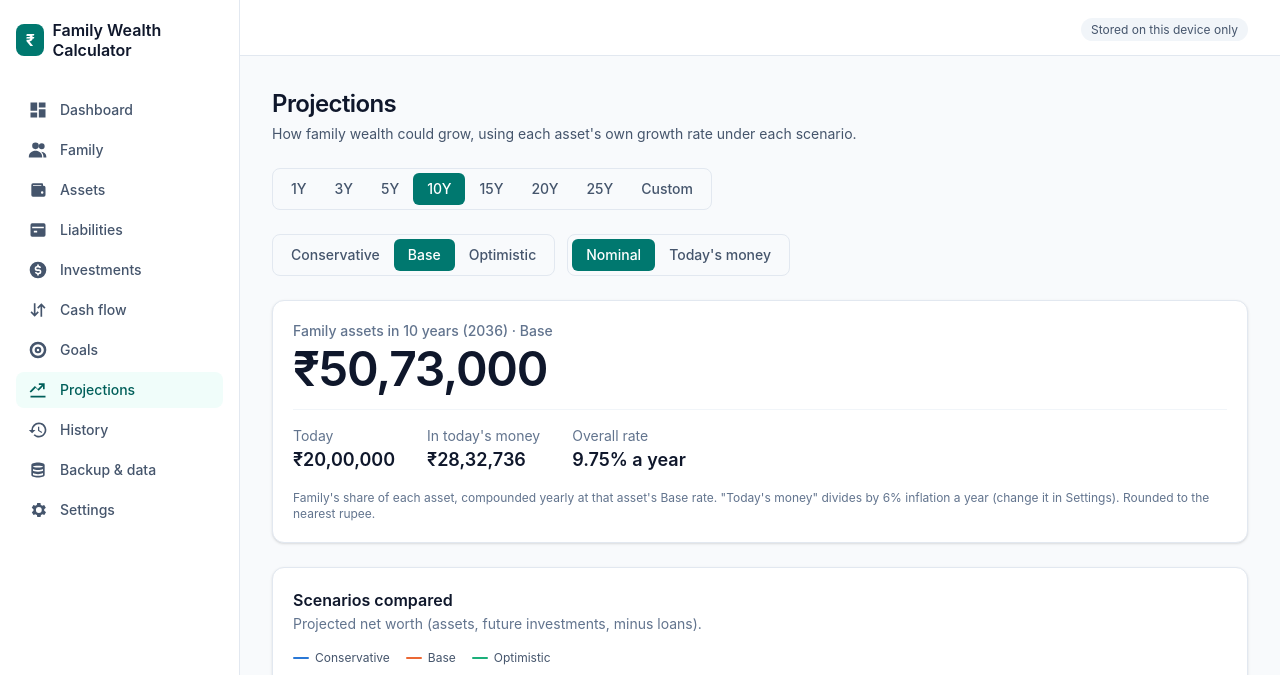
Projections page › uses each asset’s own rate and the family share; switches periods
Click the radio button labelled "1Y": {"x": 299, "y": 188} [291,180,307,197]
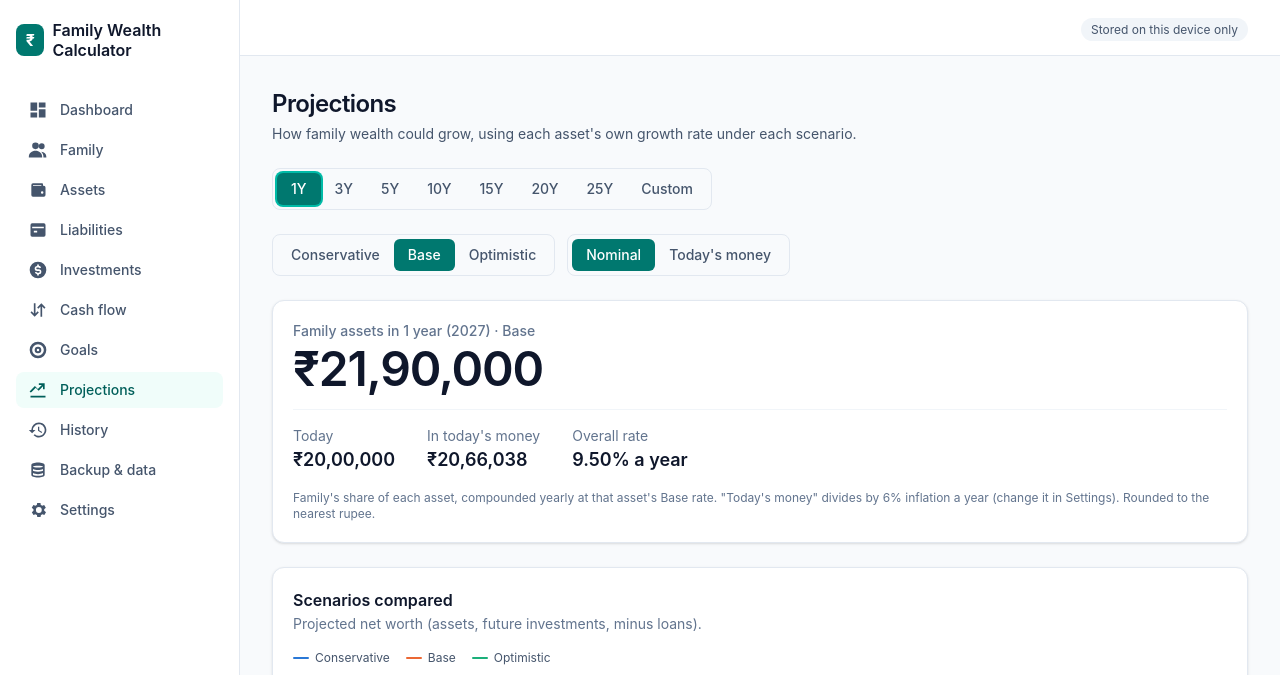
Now the text with test id "projected-total" reads "₹21,90,000", box [293,339,543,398]
Click the radio button labelled "25Y": {"x": 600, "y": 188} [586,180,613,197]
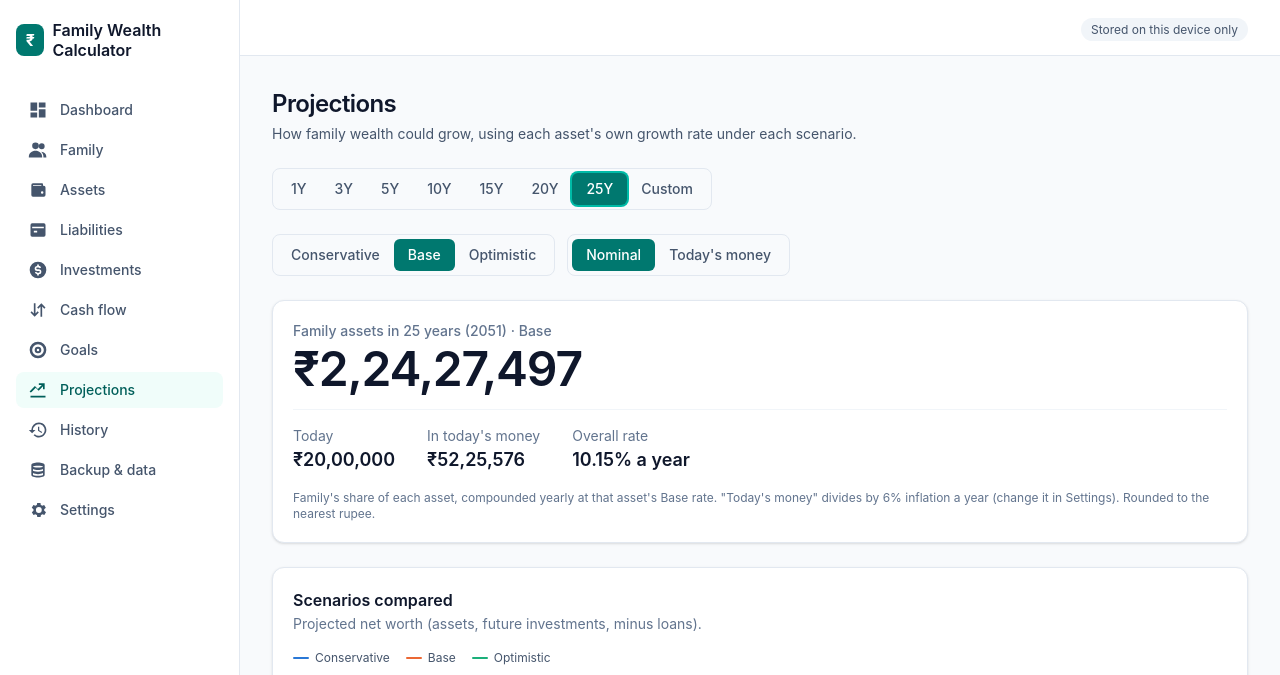
// Custom period with validation
Click the radio button labelled "Custom": {"x": 667, "y": 188} [641,180,693,197]
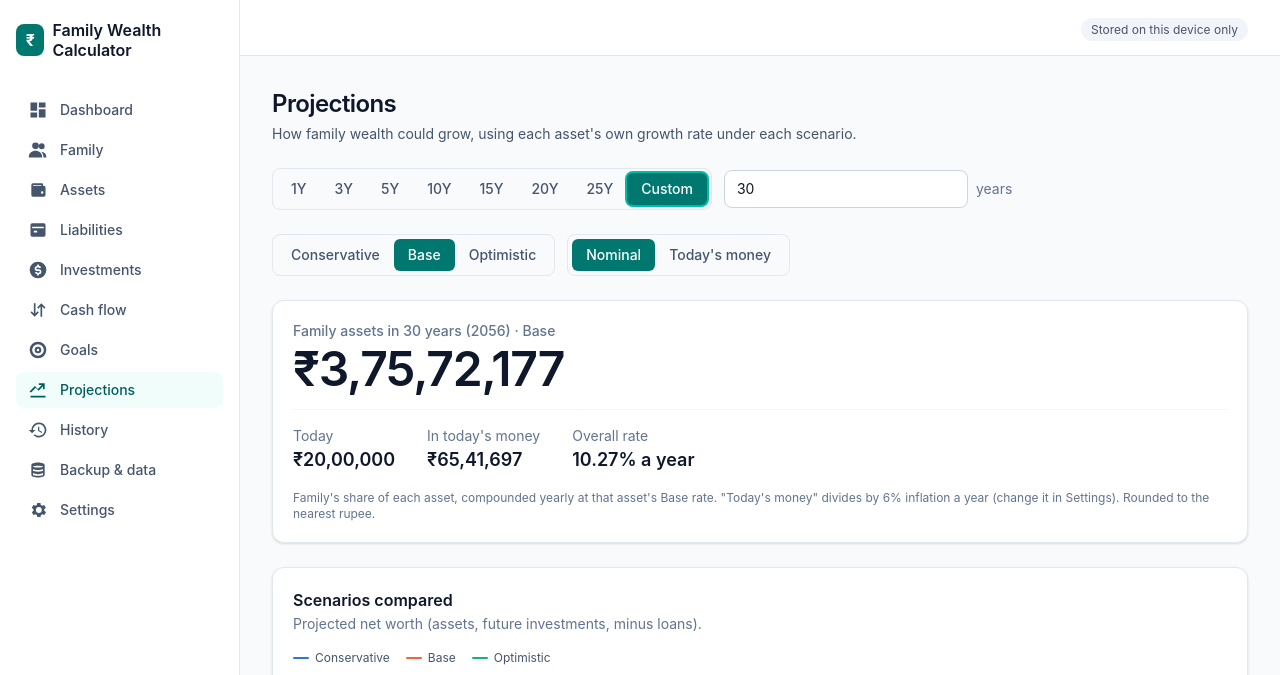
Clear the field named "Custom number of years": {"x": 846, "y": 189} [724,170,968,208]
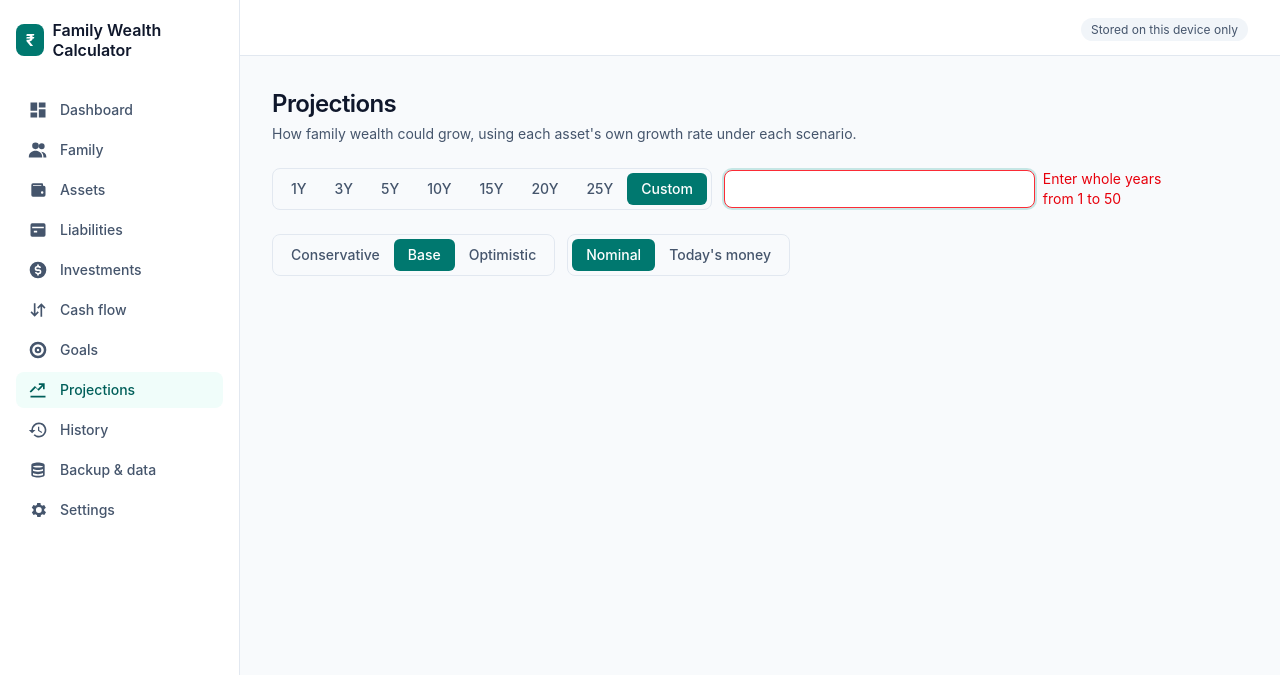
In the field named "Custom number of years": {"x": 879, "y": 189} [724,170,1035,208], type "0"
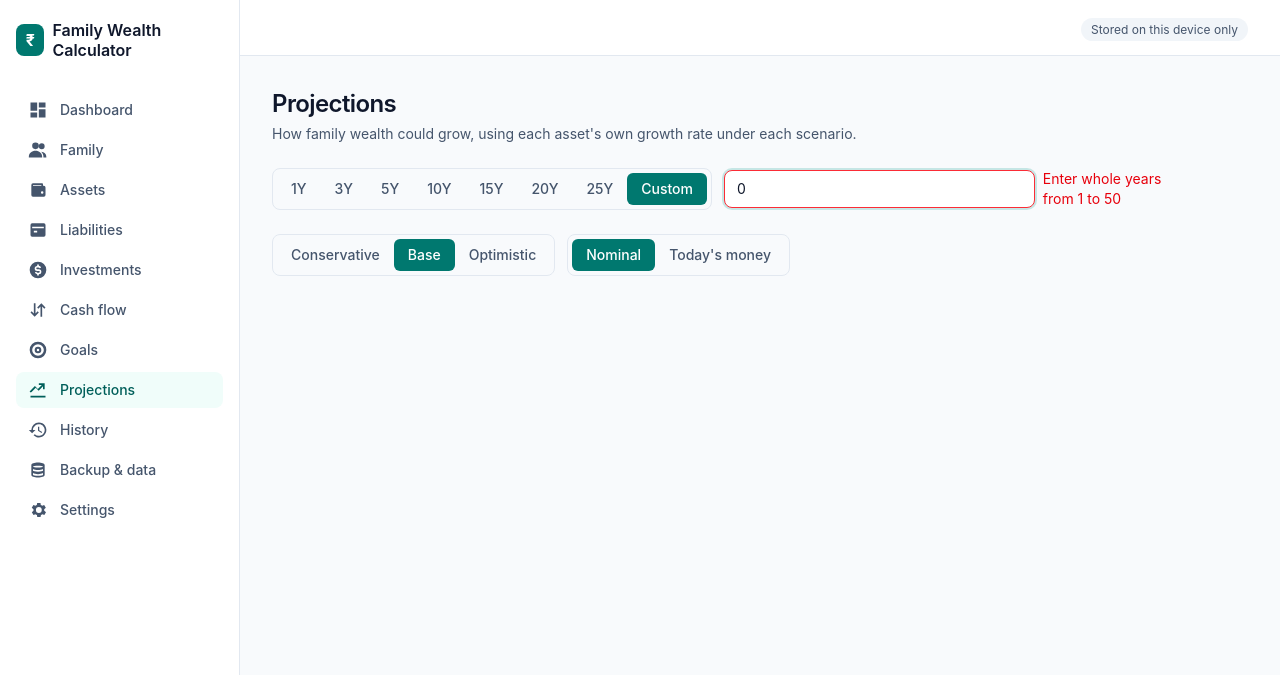
Now the text "Enter whole years from 1 to 50" is shown, box [1043,169,1177,209]
Replace the text in the field named "Custom number of years" with "2": {"x": 879, "y": 189} [724,170,1035,208]
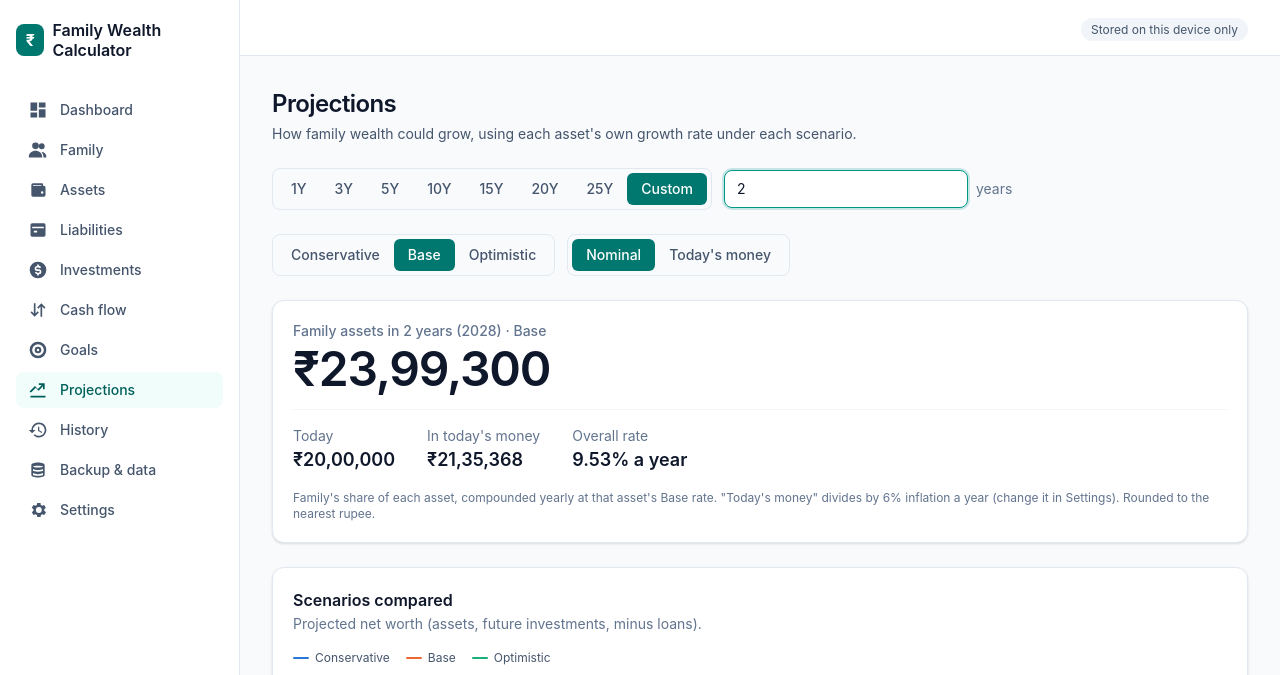
Now the text with test id "projected-total" reads "₹23,99,300", box [293,339,550,398]
